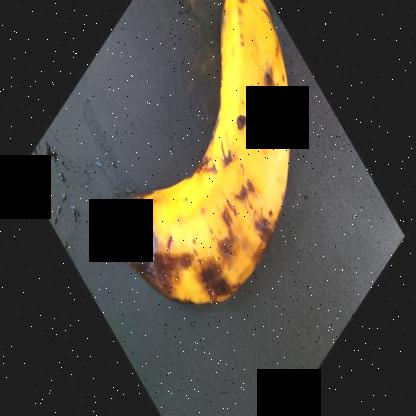overripe: (186, 0, 323, 224)
rotten: (92, 100, 284, 373)
